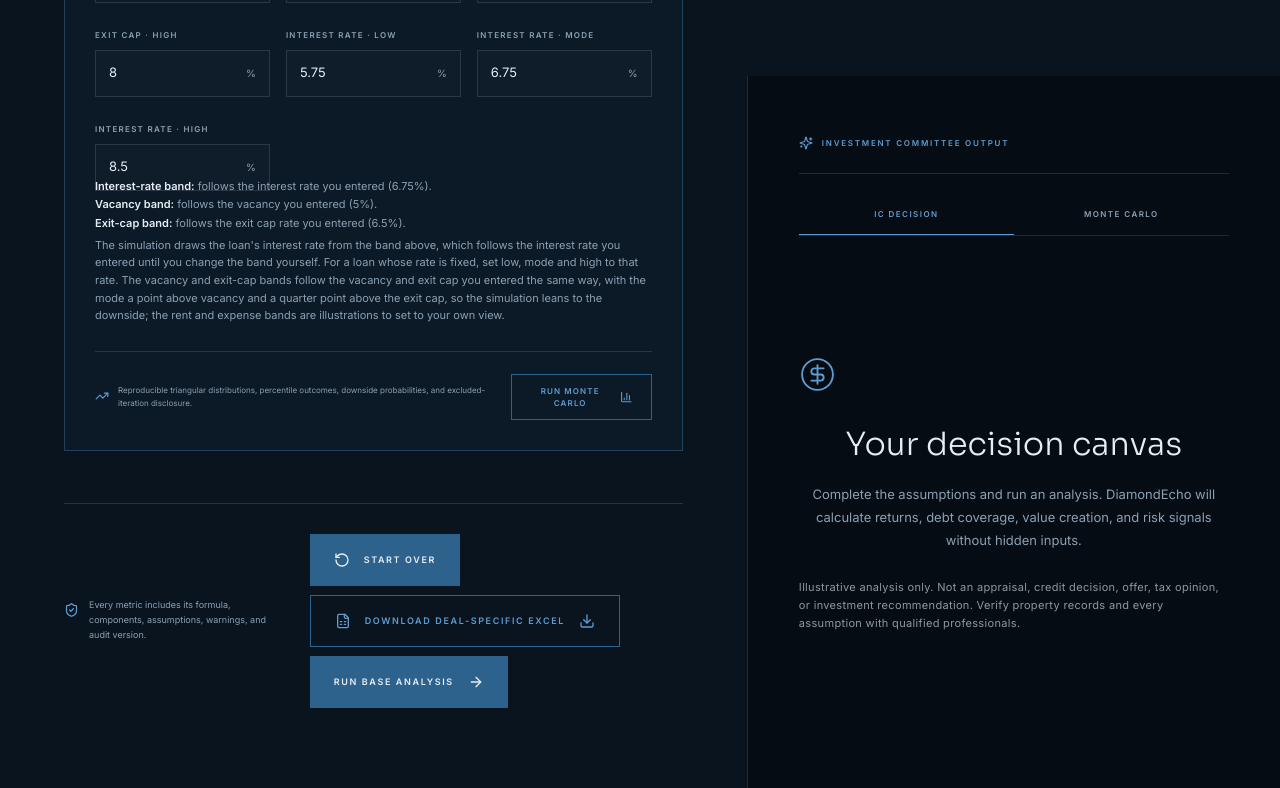
Test: after an outage the next attempt works without reloading the page
(page scrolled)
Click the button "Run base analysis".
click(409, 682)  # box x1=310 y1=656 x2=508 y2=708
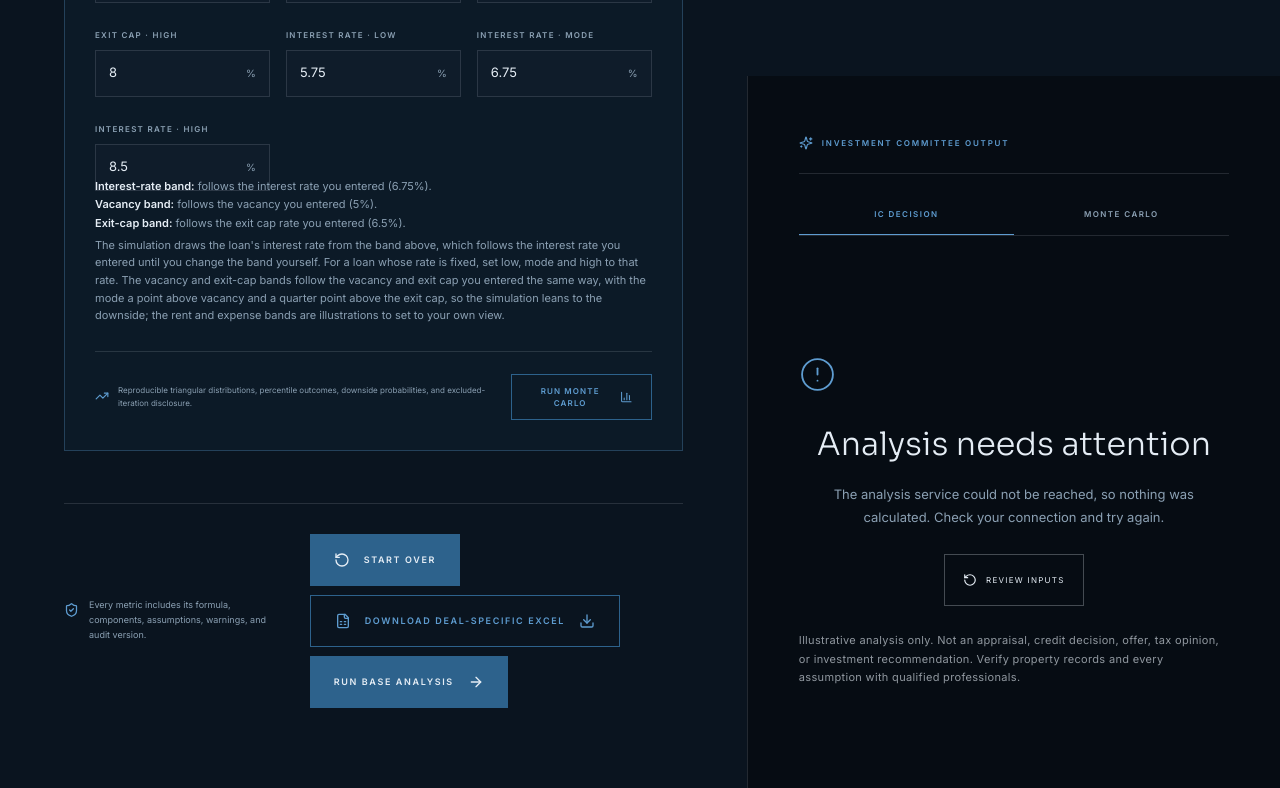
Click the button "Run base analysis".
click(409, 682)  # box x1=310 y1=656 x2=508 y2=708
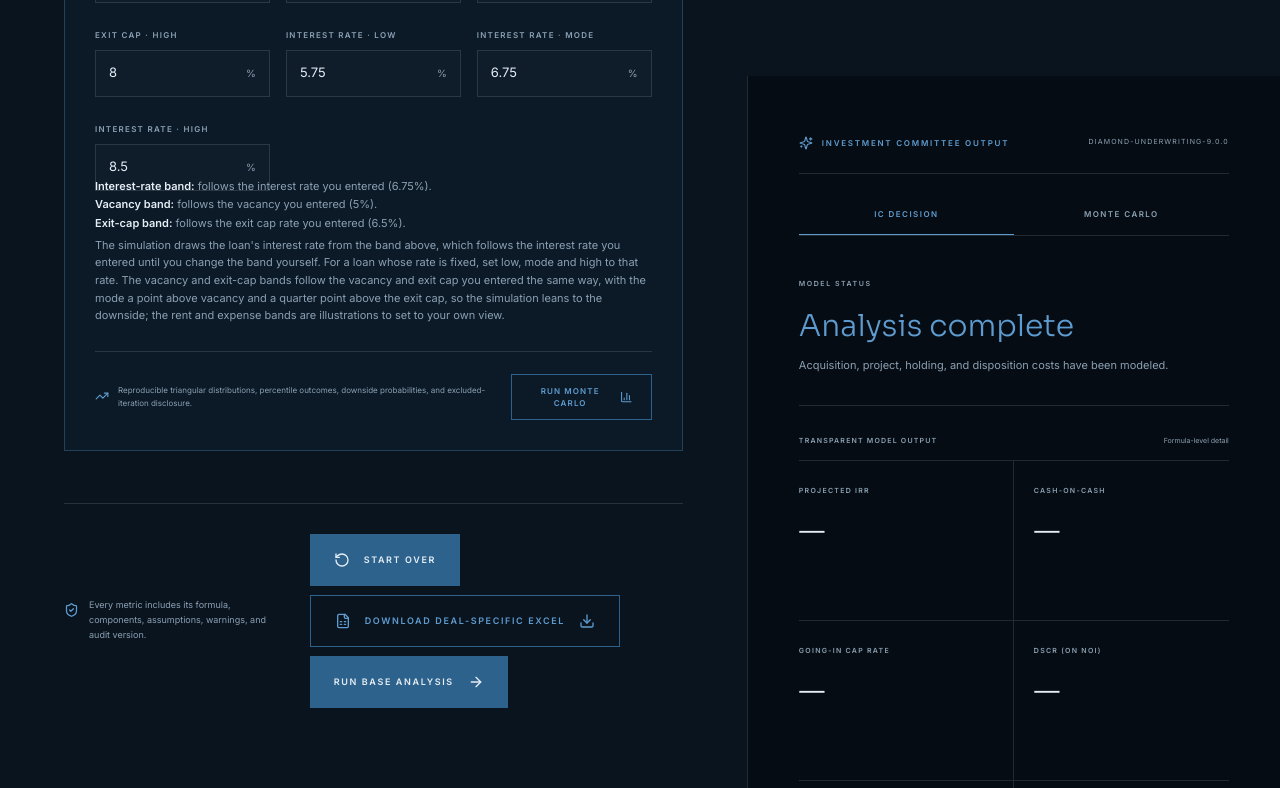
Expected: the text "could not be reached" is gone
Expected: the text "Analysis complete" is shown, x1=799 y1=307 x2=1074 y2=345
